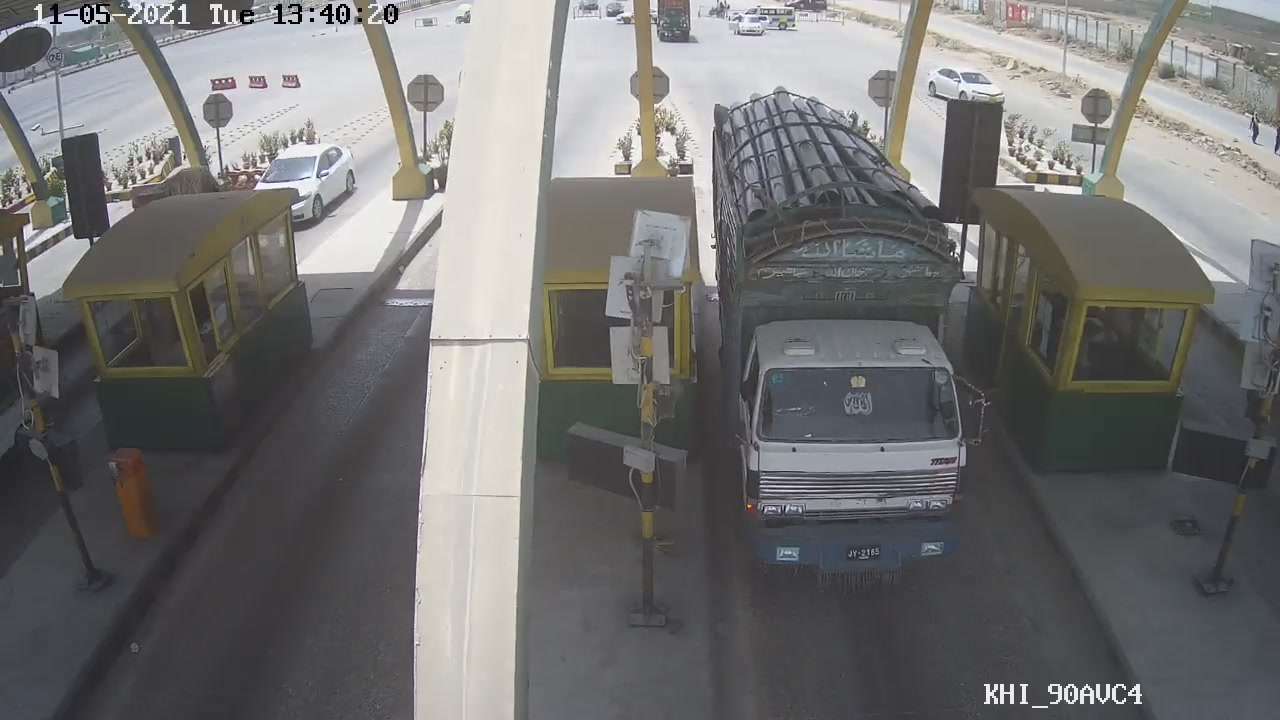F5: (714, 104, 971, 601)
